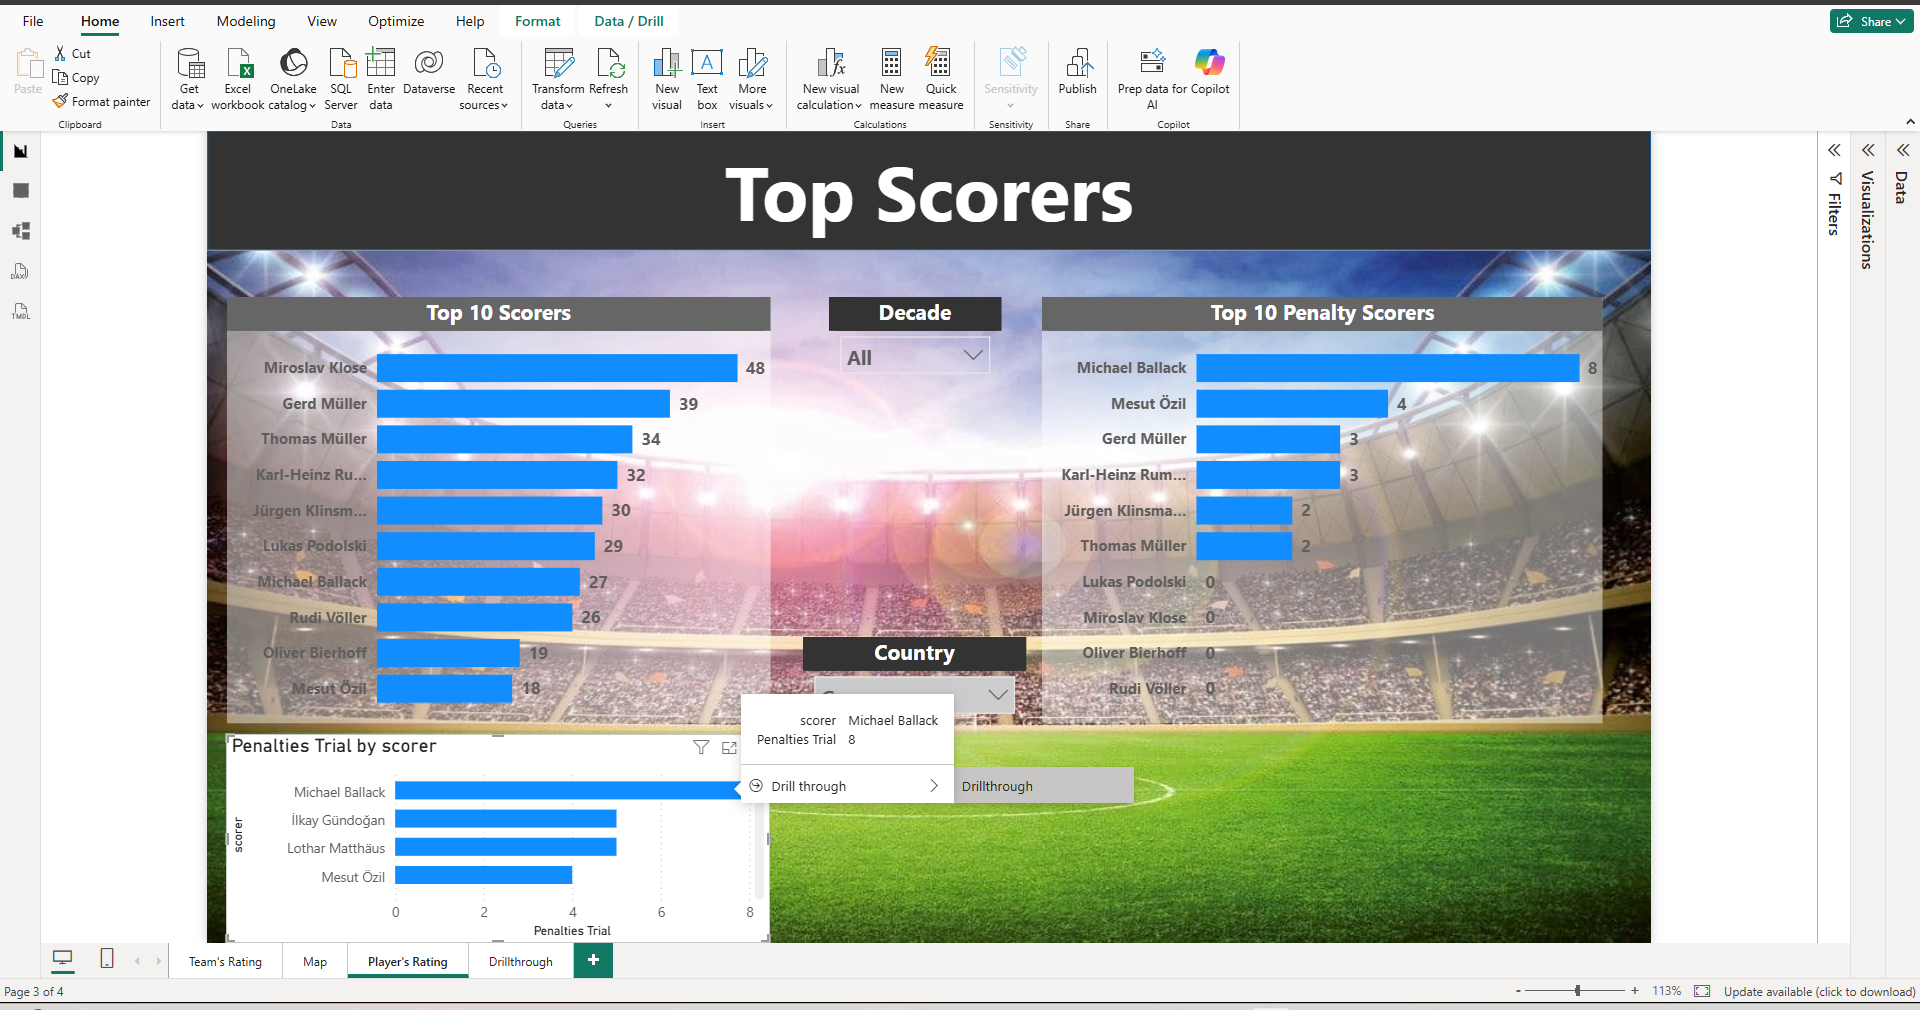

The dashboard page shown, as its layout file describes it:
{"tool":"powerbi","page":{"name":"Player's Rating","canvas":[1280,720],"ordinal":2},"visuals":[{"type":"clusteredBarChart","title":"Top 10 Scorers ","fields":{"Category":["goalscorers.scorer"],"Y":["goalscorers.Top Scorers (Measure)"]},"box":[17.3,147.3,481.8,377.8],"z":0},{"type":"slicer","title":"Decade","fields":{"Values":["goalscorers.Year Bins"]},"box":[551.1,147.3,152.5,109.2],"z":1000},{"type":"shape","title":"Top Scorers","box":[0,0,1280.7,105.7],"z":2000},{"type":"clusteredBarChart","title":"Top 10 Penalty Scorers ","fields":{"Category":["goalscorers.scorer"],"Y":["goalscorers.Top Penalty Scorers"]},"box":[740,147.3,497.4,377.8],"z":3000},{"type":"slicer","title":"Country","fields":{"Values":["goalscorers.team"]},"box":[528.6,448.9,197.6,109.2],"z":4000},{"type":"clusteredBarChart","fields":{"Category":["goalscorers.scorer"],"Y":["goalscorers.Penalties Trial"]},"box":[17,535,482,185],"z":5000}]}

Visuals, with their boxes on the page's 1280x720 design canvas (x1, y1, x2, y2). These are canvas units, not pixel positions in the 1920x1010 screenshot, which may show the page scaled, cropped or inside an application window:
"Top 10 Scorers " clusteredBarChart: 17:147:499:525
"Decade" slicer: 551:147:704:256
"Top Scorers" shape: 0:0:1281:106
"Top 10 Penalty Scorers " clusteredBarChart: 740:147:1237:525
"Country" slicer: 529:449:726:558
clusteredBarChart - goalscorers.scorer x goalscorers.Penalties Trial: 17:535:499:720
